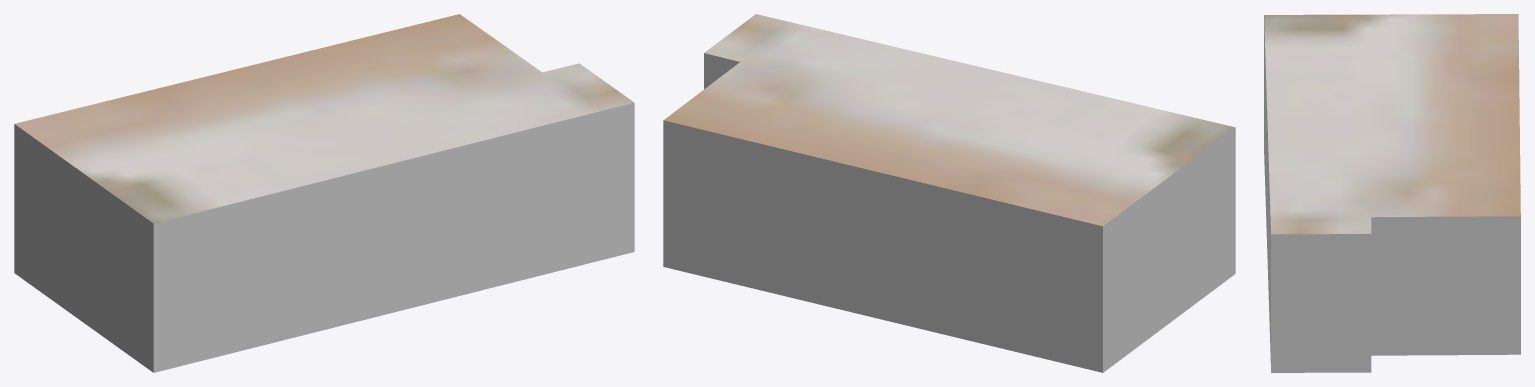
File: DEBW_0010007THYU.gltf
3 views of the same model, side by side, from view 1: azimuth 30°, elevation 25°; view 2: azimuth 150°, elevation 25°; view 3: azimuth 270°, elevation 25° (orthographic). The views are drawn at different scales.
Parts seen in each view (by area): view 1: Z_UP; view 2: Z_UP; view 3: Z_UP.
Boxes of the visible parts, x1,y1,x2,y2 form: Z_UP: (14,14,634,372); Z_UP: (663,14,1235,372); Z_UP: (1264,14,1520,372).
Bounding box in the file's own units: 4.47 × 1.31 × 2.2.
Materials: 2 (1 with a texture image).
